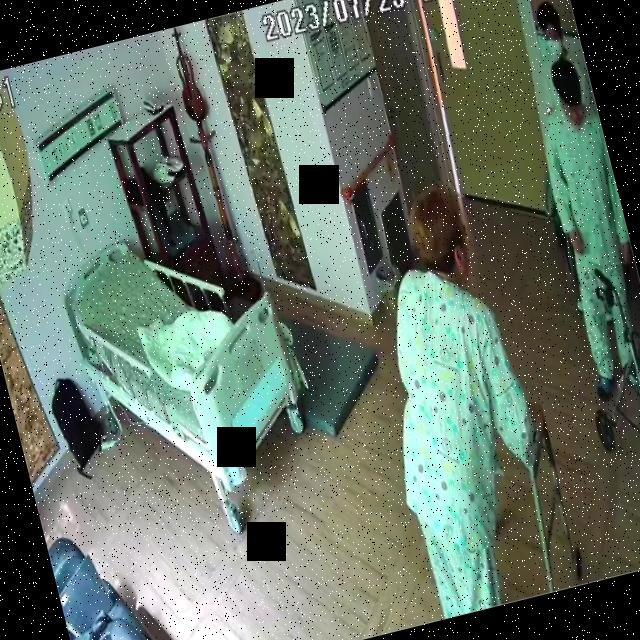bed: (54, 215, 318, 522)
patient: (330, 170, 571, 620), (512, 39, 640, 400)
stand: (332, 172, 570, 620), (513, 37, 640, 395)
walker: (556, 257, 640, 517), (502, 388, 590, 592)
